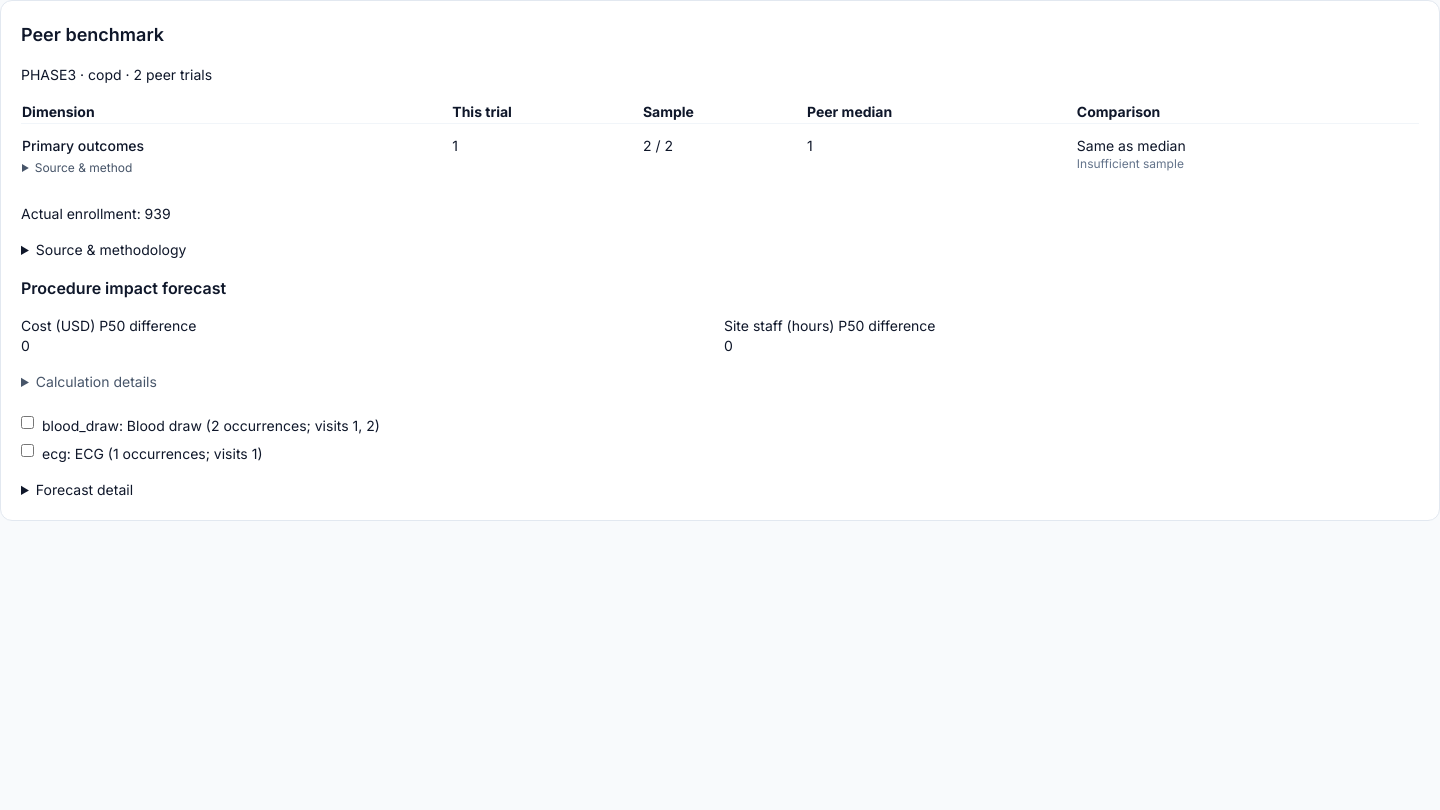
Test: PeerMirror › requests the pinned saved version and shows sparse-cohort counts with file provenance
The width and height of the screenshot is (1440, 810).
Expected: the 1st cell "1" is shown, [451, 124, 642, 188]
Expected: the row with test id "peer-primary_outcomes" shows "Insufficient sample", [1077, 156, 1184, 171]
Click the heading "Source & method".
click(84, 168)  # box [35, 160, 132, 175]
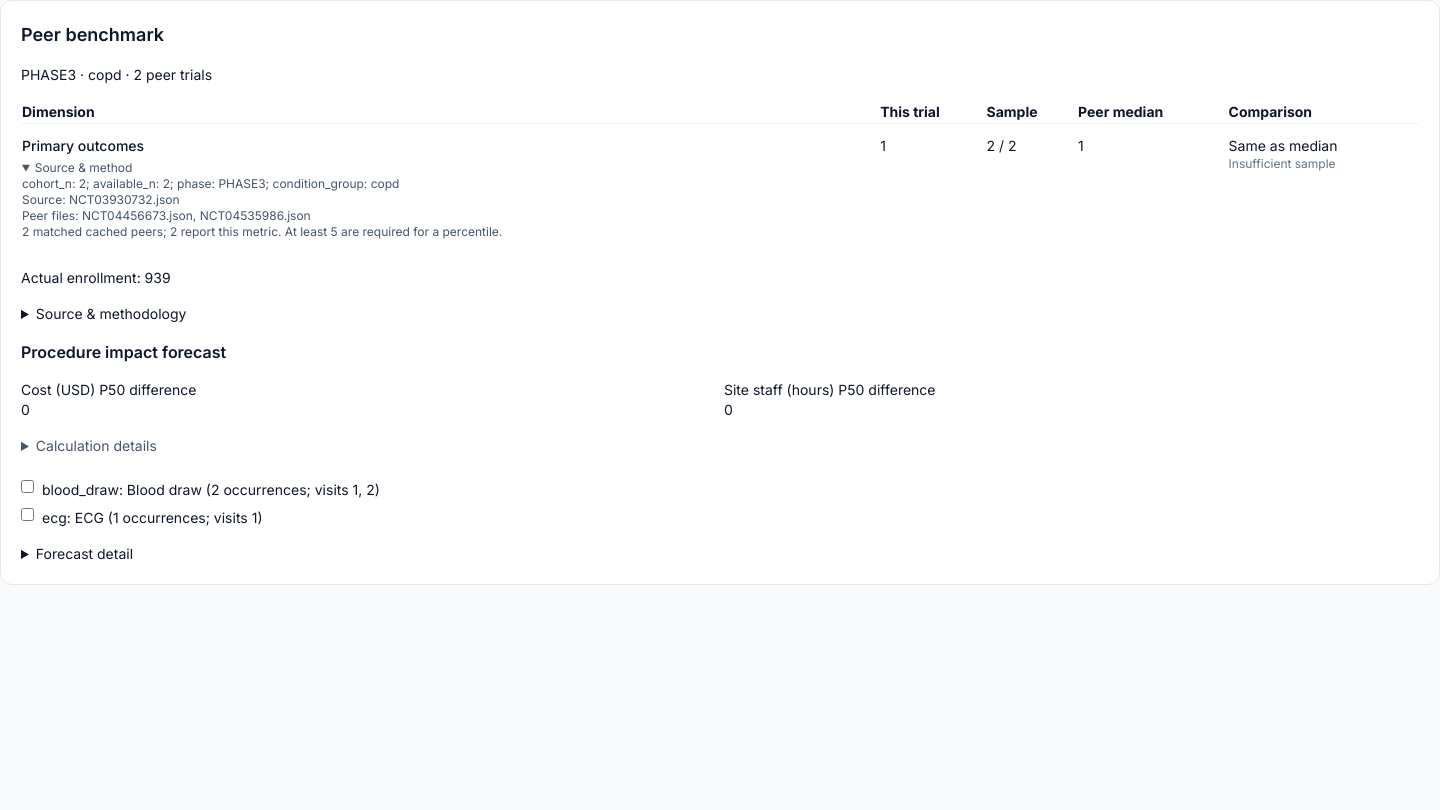
Result: the row with test id "peer-primary_outcomes" shows "cohort_n: 2; available_n: 2; phase: PHASE3; condition_group: copd" at [21, 124, 1419, 252]
Result: the row with test id "peer-primary_outcomes" shows "NCT03930732.json" at [69, 192, 180, 207]
Result: the row with test id "peer-primary_outcomes" shows "NCT04456673.json, NCT04535986.json" at [82, 208, 311, 223]
